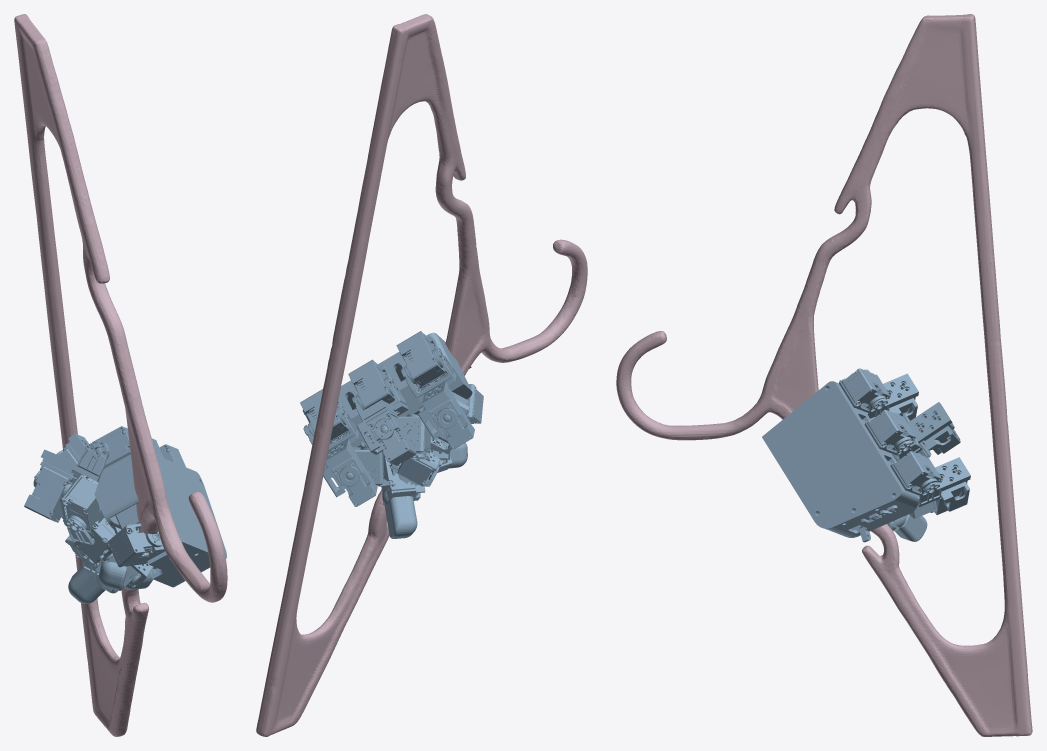
3 renders of one model, left to right at view 1: azimuth 30°, elevation 25°; view 2: azimuth 150°, elevation 25°; view 3: azimuth 270°, elevation 25°, orthographic. The views are drawn at different scales.
Visible parts, largest first — view 1: obj_mesh_grasp_5.obj, world; view 2: obj_mesh_grasp_5.obj, world; view 3: obj_mesh_grasp_5.obj, world.
Part boxes in pixels (x1,y1,x2,y2): obj_mesh_grasp_5.obj: (14,14,227,736); world: (24,426,226,603); obj_mesh_grasp_5.obj: (256,14,587,736); world: (300,331,483,538); obj_mesh_grasp_5.obj: (616,14,1032,736); world: (762,368,970,542).
Bounding box in the file's own units: 0.1548 × 0.6253 × 0.3492.
